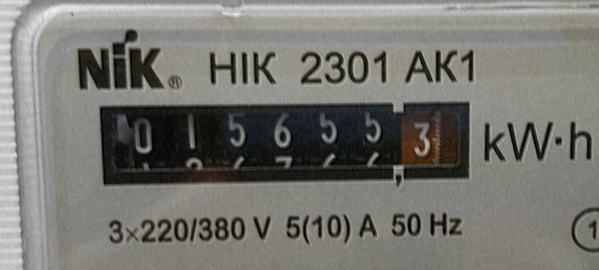0: (130, 114, 156, 155)
1: (182, 112, 201, 151)
3: (412, 120, 432, 157)
5: (224, 112, 249, 148), (317, 112, 341, 144), (364, 111, 383, 143)
6: (271, 112, 295, 148)
screen: (86, 82, 486, 202)
